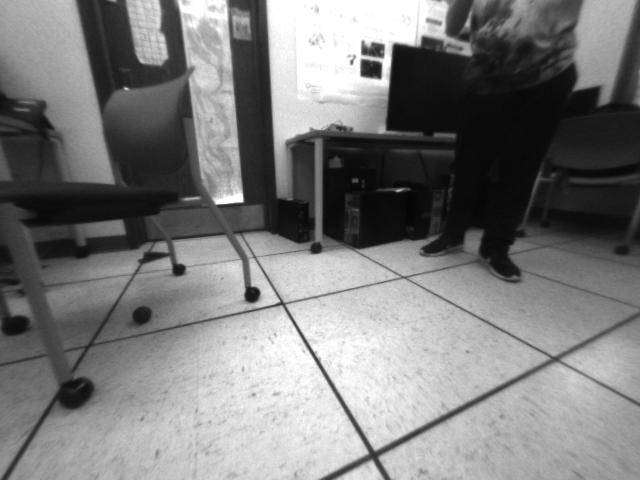dogtoy: (125, 300, 161, 328)
